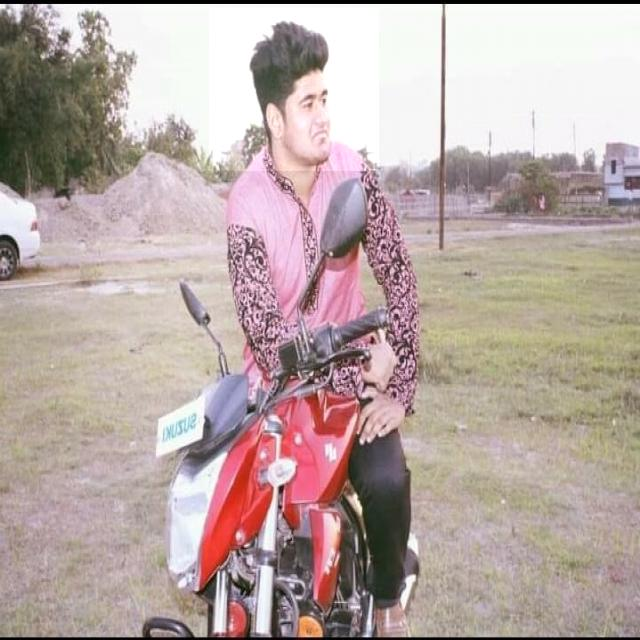No_Helmet: (209, 8, 379, 171)
